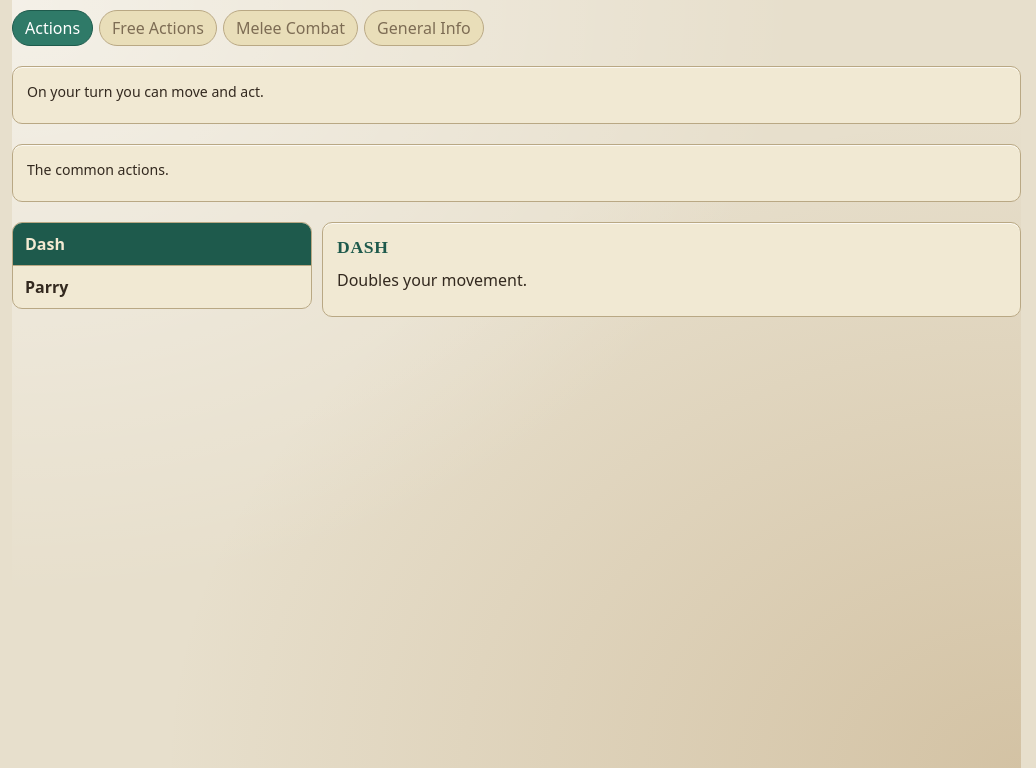
RulesView with layout: tabs › turns the entries into tabs and the rows of the tab table into the list
Step 1. Click the button with test id "chapter-tab" showing "Free Actions" → (158, 28), box [99, 10, 217, 46]
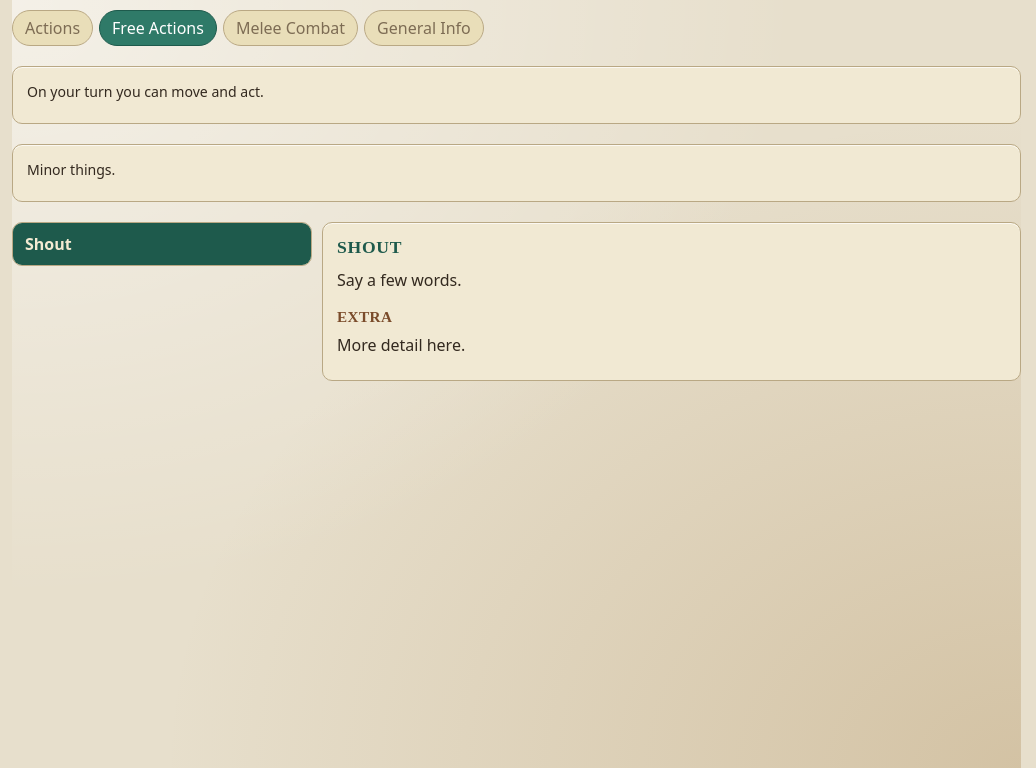
Result: the text "Minor things." is shown at [27, 160, 115, 179]
